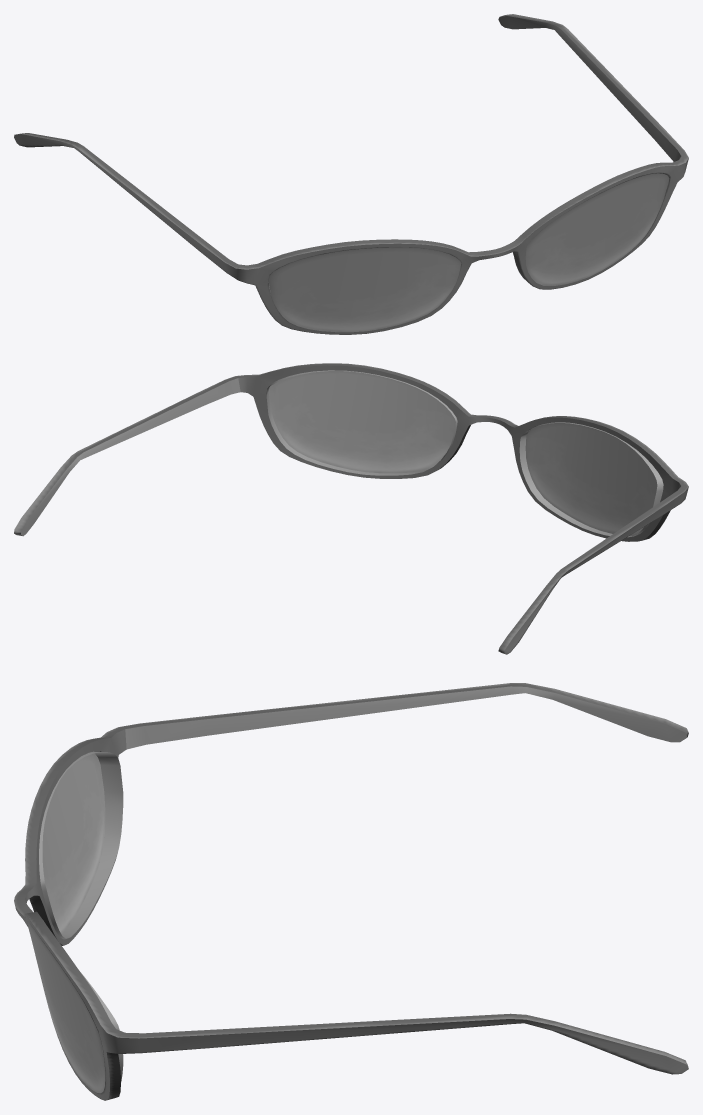
File: glasses_V.glb
The picture shows the model from 3 angles, top to bottom: view 1: azimuth 30°, elevation 25°; view 2: azimuth 150°, elevation 25°; view 3: azimuth 270°, elevation 25°; orthographic projection. The views are drawn at different scales.
Visible parts, largest first — view 1: part; view 2: part; view 3: part.
Part boxes in pixels (<box>): part: <box>14,14,688,334</box>; part: <box>14,363,688,654</box>; part: <box>14,683,688,1100</box>.
Size of the model in its own units: 0.158 by 0.0324 by 0.1337.
Materials: 2 (2 with a texture image).
